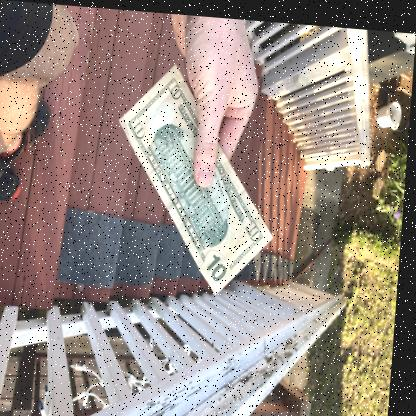ten-back: (112, 58, 275, 305)
